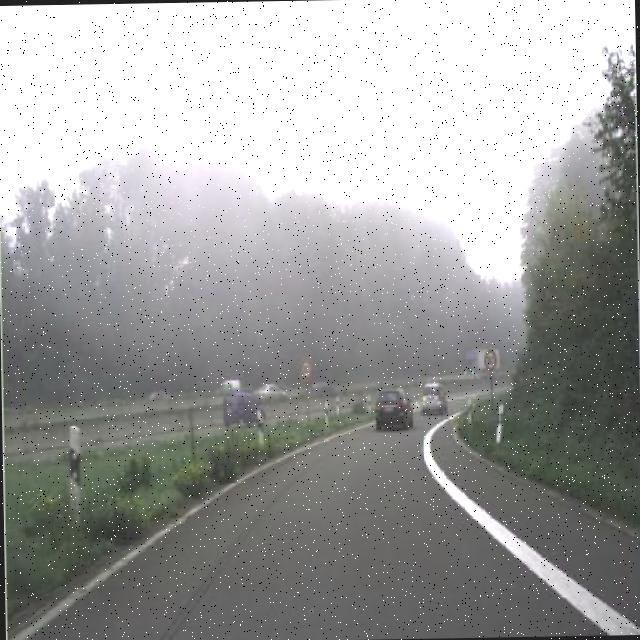Ograniczenie predkosci do 80: (482, 348, 498, 374), (298, 358, 314, 380)
